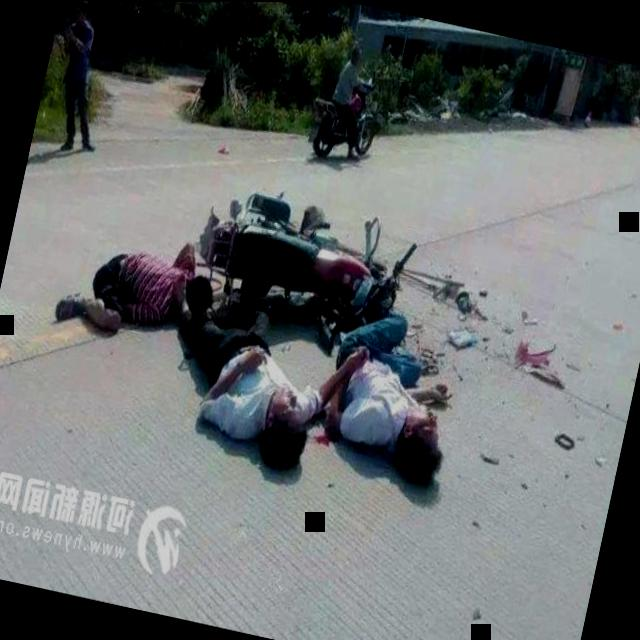Fall-Detected: (300, 283, 483, 486)
